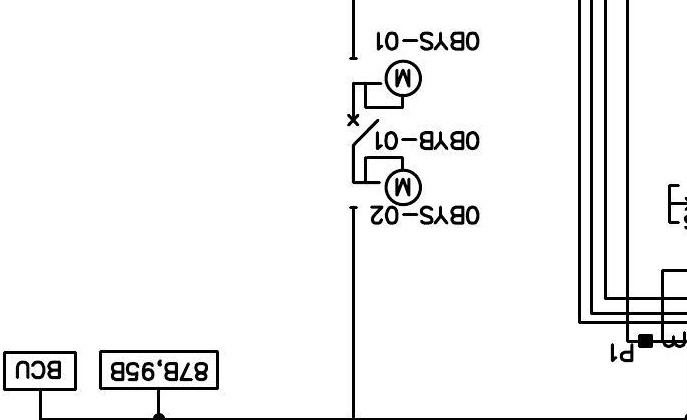115_1way_ds_w_motor: (349, 156, 423, 210), (348, 56, 423, 109)
115_breaker: (346, 113, 380, 147)
BCU: (2, 350, 78, 392)
